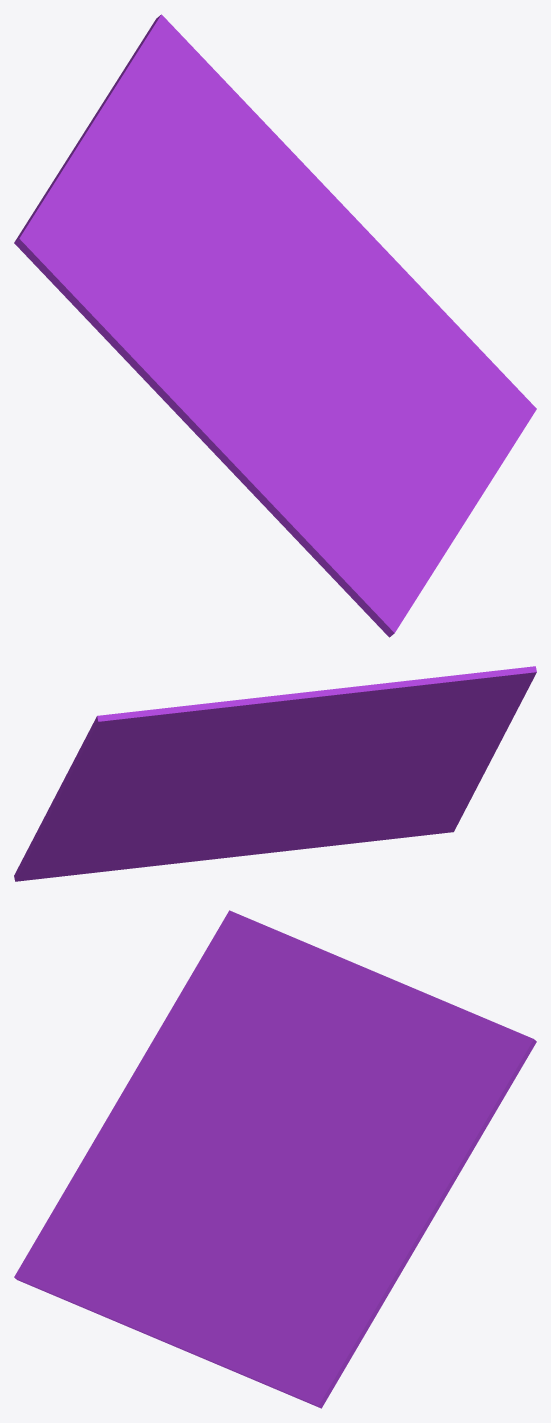
The picture shows the model from 3 angles, top to bottom: view 1: azimuth 30°, elevation 25°; view 2: azimuth 150°, elevation 25°; view 3: azimuth 270°, elevation 25°; orthographic projection. The views are drawn at different scales.
Parts seen in each view (by area): view 1: Plano0e_Plano2_Cubo.005; view 2: Plano0e_Plano2_Cubo.005; view 3: Plano0e_Plano2_Cubo.005.
Part boxes in pixels (<box>): Plano0e_Plano2_Cubo.005: <box>14,14,536,637</box>; Plano0e_Plano2_Cubo.005: <box>14,666,536,881</box>; Plano0e_Plano2_Cubo.005: <box>14,910,536,1408</box>.
Size of the model in its own units: 3.53 by 2.09 by 3.53.
